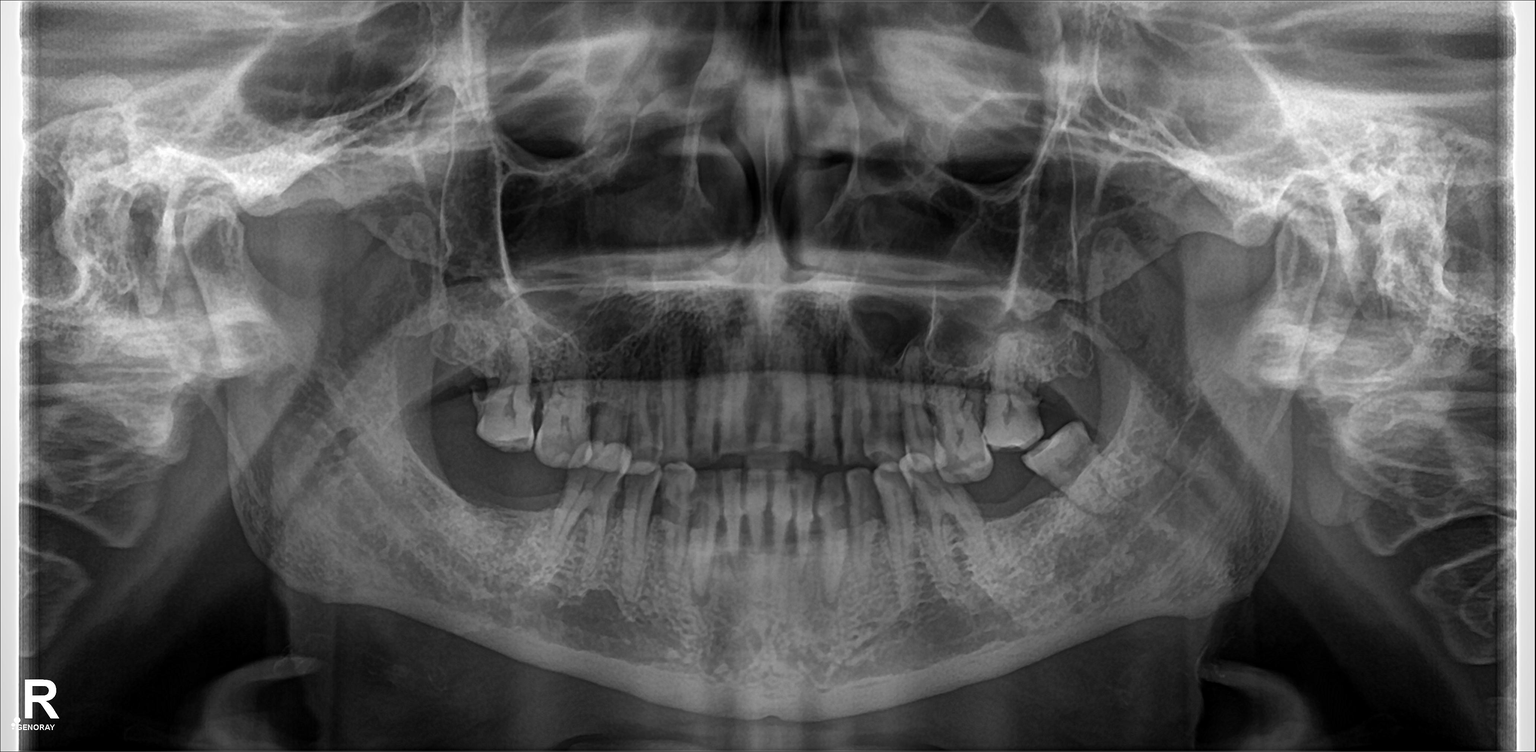Missing Tooth: (439, 456, 486, 550), (439, 329, 478, 439), (488, 463, 526, 566), (1043, 344, 1095, 416), (534, 473, 563, 576), (1017, 478, 1050, 544), (980, 490, 1015, 548)
